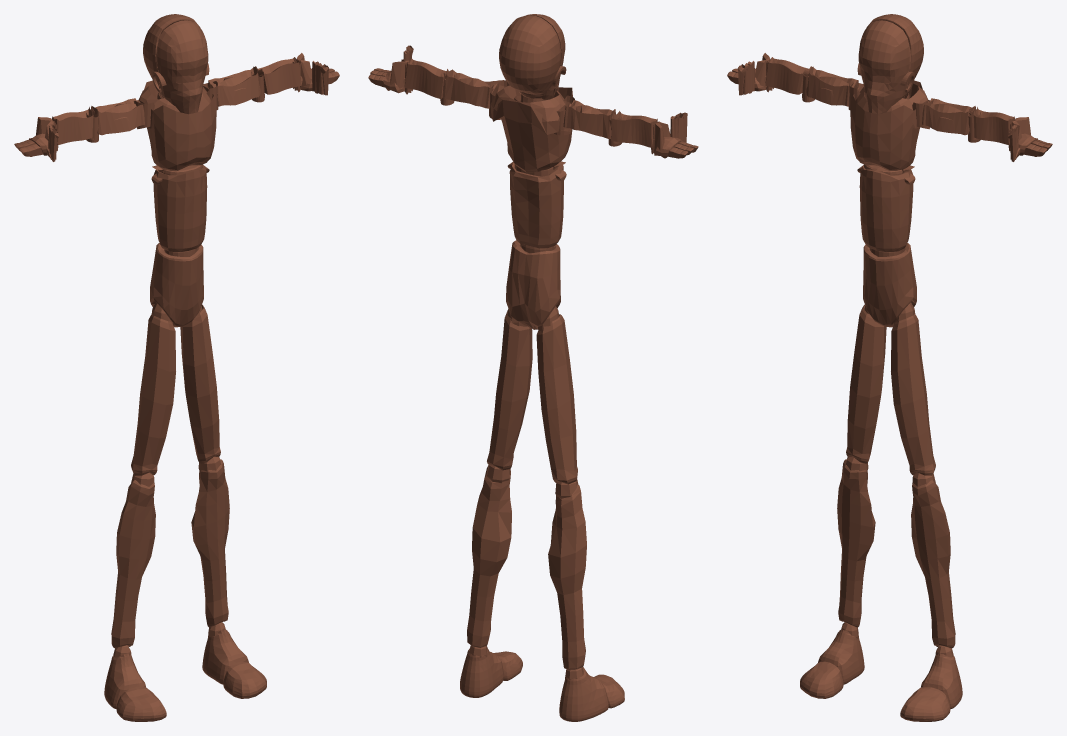
3 renders of one model, left to right at view 1: azimuth 30°, elevation 25°; view 2: azimuth 150°, elevation 25°; view 3: azimuth 330°, elevation 25°, orthographic.
Visible parts, largest first — view 1: base_mannequin.glb, base_mannequin.glb_2; view 2: base_mannequin.glb, base_mannequin.glb_2; view 3: base_mannequin.glb, base_mannequin.glb_2.
Boxes of the visible parts, bbox=[...] form: base_mannequin.glb: bbox=[14, 14, 339, 721]; base_mannequin.glb_2: bbox=[54, 47, 300, 657]; base_mannequin.glb: bbox=[368, 14, 698, 721]; base_mannequin.glb_2: bbox=[404, 63, 654, 679]; base_mannequin.glb: bbox=[727, 14, 1052, 721]; base_mannequin.glb_2: bbox=[766, 47, 1012, 657].
Bounding box in the file's own units: 1.21 × 2.45 × 0.316.
Materials: 3 (3 with a texture image).
